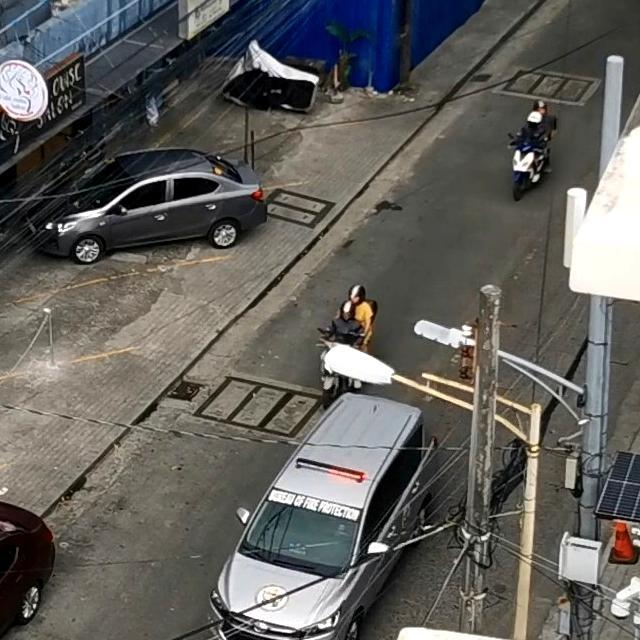Motorcycle: (509, 116, 556, 200), (328, 282, 372, 347)
